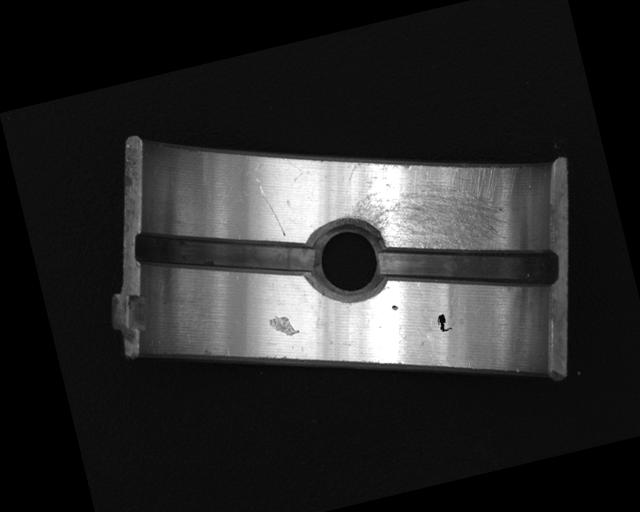blot: (434, 311, 454, 334)
bruise: (266, 309, 300, 340), (390, 304, 399, 312)
gap: (134, 196, 318, 312), (374, 213, 562, 323)
hole: (297, 213, 395, 310)
nick: (255, 174, 286, 240)
scratch: (340, 125, 538, 288)
